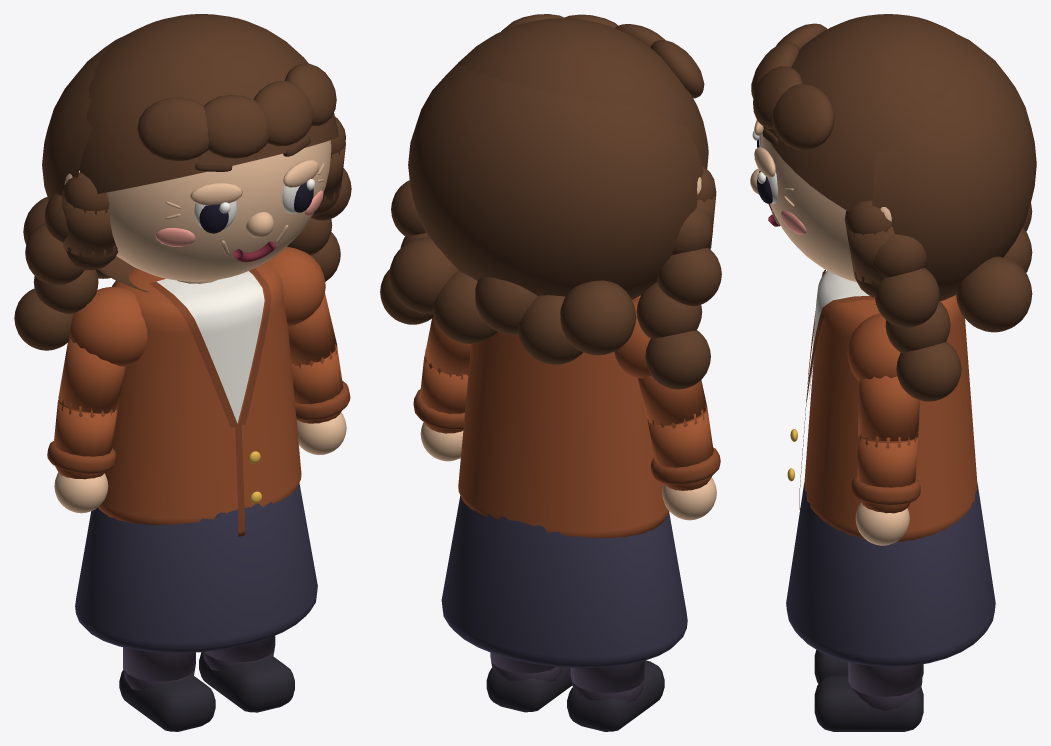
File: ch_pasha_mom.fbx
3 renders of one model, left to right at view 1: azimuth 30°, elevation 25°; view 2: azimuth 150°, elevation 25°; view 3: azimuth 270°, elevation 25°, orthographic.
Visible parts, largest first — view 1: ch_pasha_mom; view 2: ch_pasha_mom; view 3: ch_pasha_mom.
Boxes of the visible parts, <box> form: ch_pasha_mom: <box>14,14,351,731</box>; ch_pasha_mom: <box>380,14,721,731</box>; ch_pasha_mom: <box>750,14,1036,731</box>.
Bounding box in the file's own units: 0.748 × 1.51 × 0.58.
